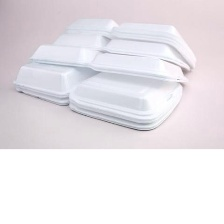foam_box: (9, 59, 186, 135), (27, 11, 200, 85)
